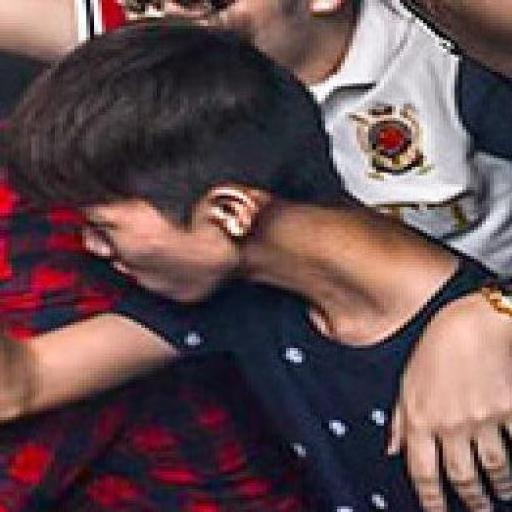person: (11, 25, 489, 509)
